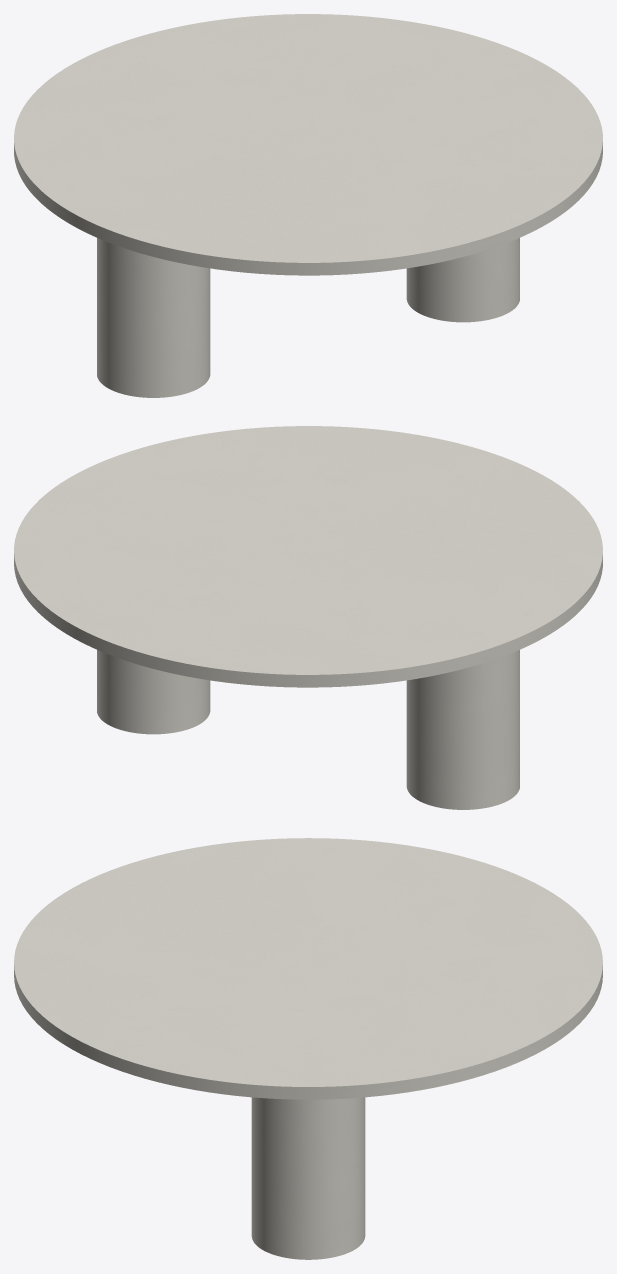
The model's file is pale_round_standard_stream.glb.
3 renders of one model, top to bottom at view 1: azimuth 30°, elevation 25°; view 2: azimuth 150°, elevation 25°; view 3: azimuth 270°, elevation 25°, orthographic.
Visible parts, largest first — view 1: standard_round, stream; view 2: standard_round, stream; view 3: standard_round, stream.
Boxes of the visible parts, <box> form: standard_round: <box>14,14,602,275</box>; stream: <box>97,238,519,397</box>; standard_round: <box>14,426,602,687</box>; stream: <box>97,650,519,809</box>; standard_round: <box>14,838,602,1099</box>; stream: <box>251,1097,365,1259</box>.
Bounding box in the file's own units: 6.75 × 2.5 × 6.75.
Materials: 1 (1 with a texture image).
